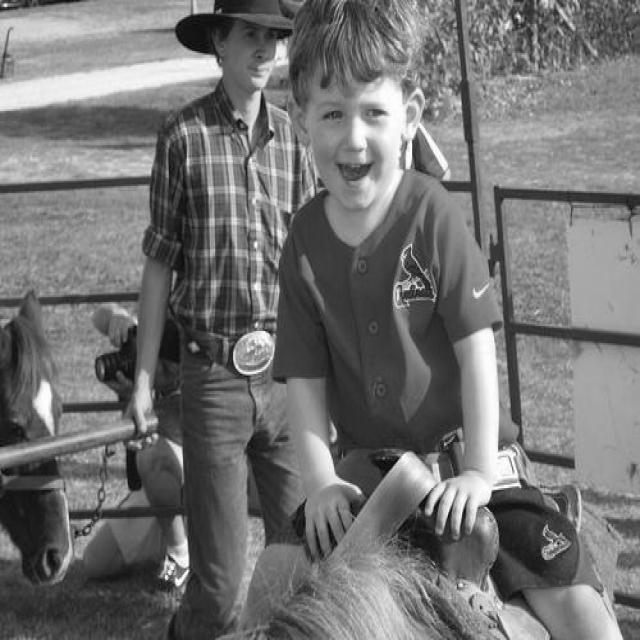No_Gloves: (286, 467, 375, 566), (430, 461, 504, 537), (122, 388, 158, 454)
